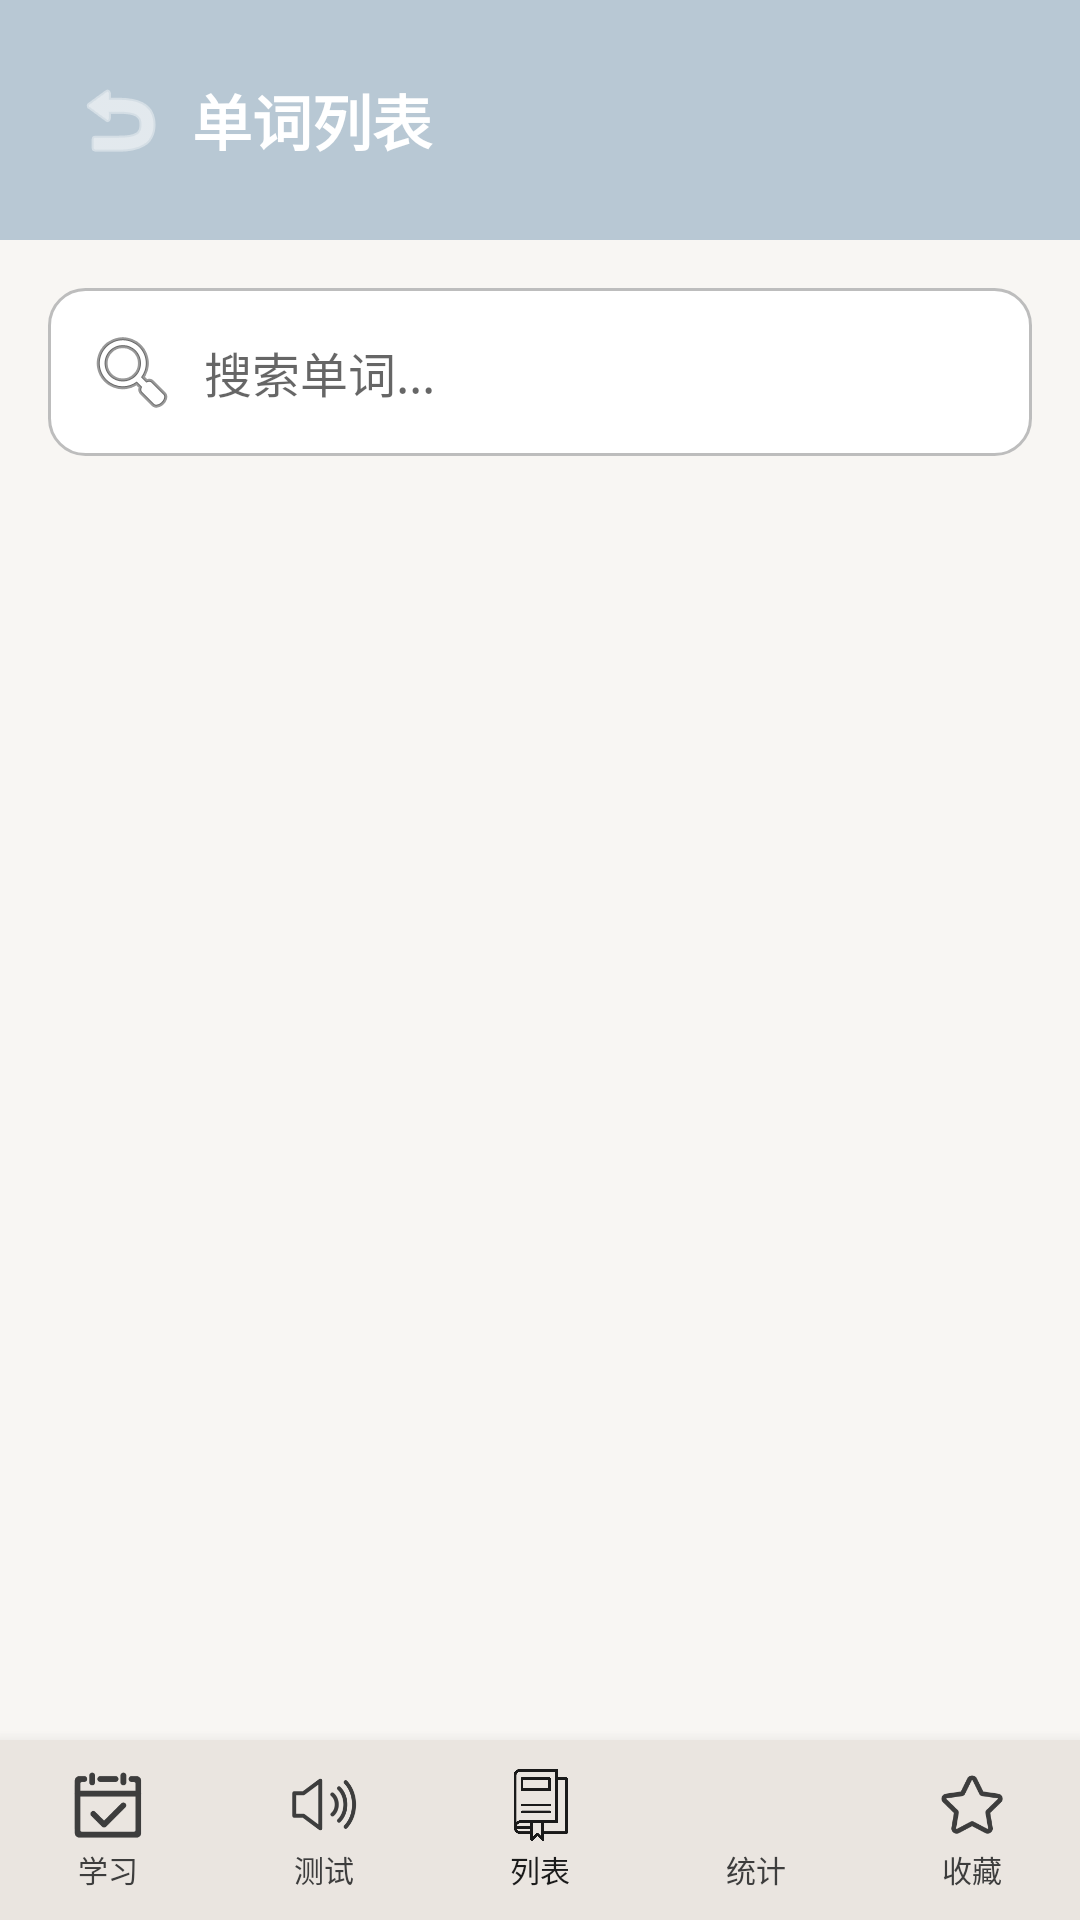

Screen size 1080 x 1920. Icon name, then its center in pixels as [x,y]:
revert: [121,120]
speak: [324,1804]
